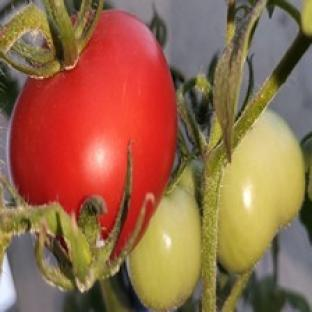Tomato: (9, 10, 176, 252), (219, 111, 305, 272), (127, 187, 200, 310)
